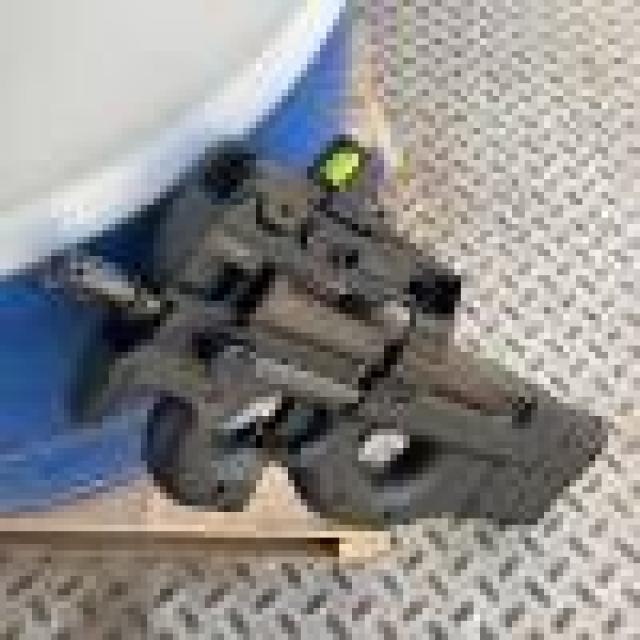Gun: (5, 79, 640, 612)
